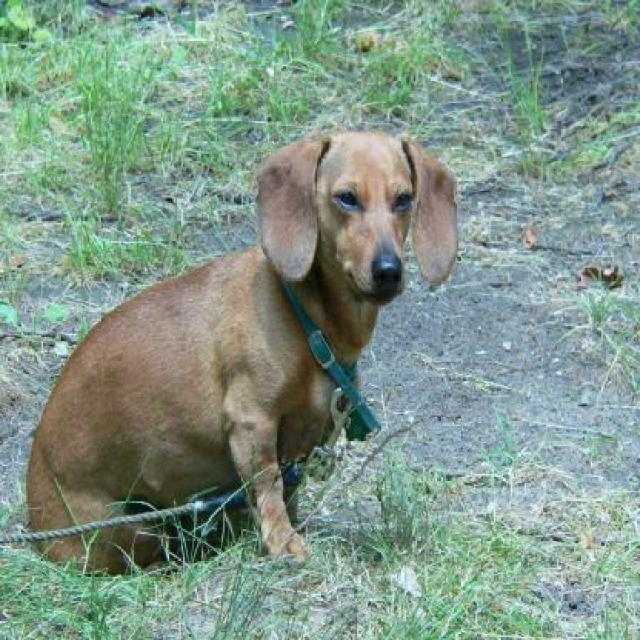Dog: (28, 126, 462, 585)
